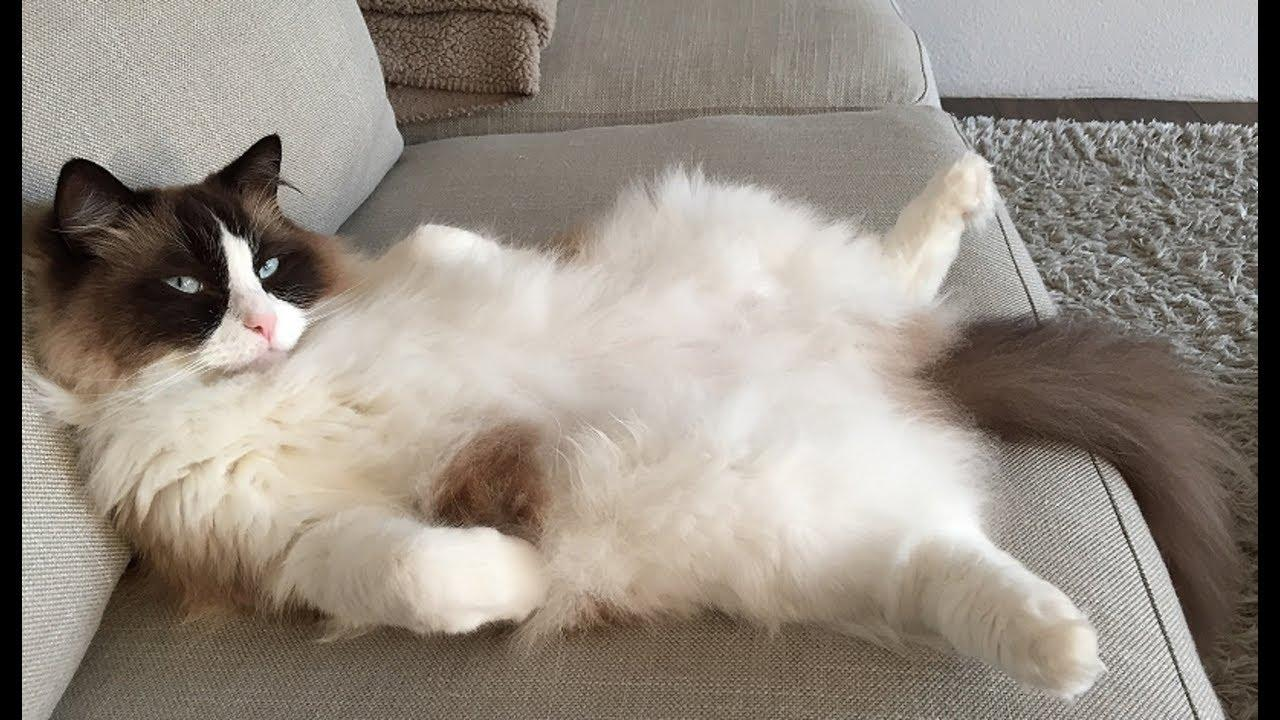ragdoll: (27, 107, 357, 422)
